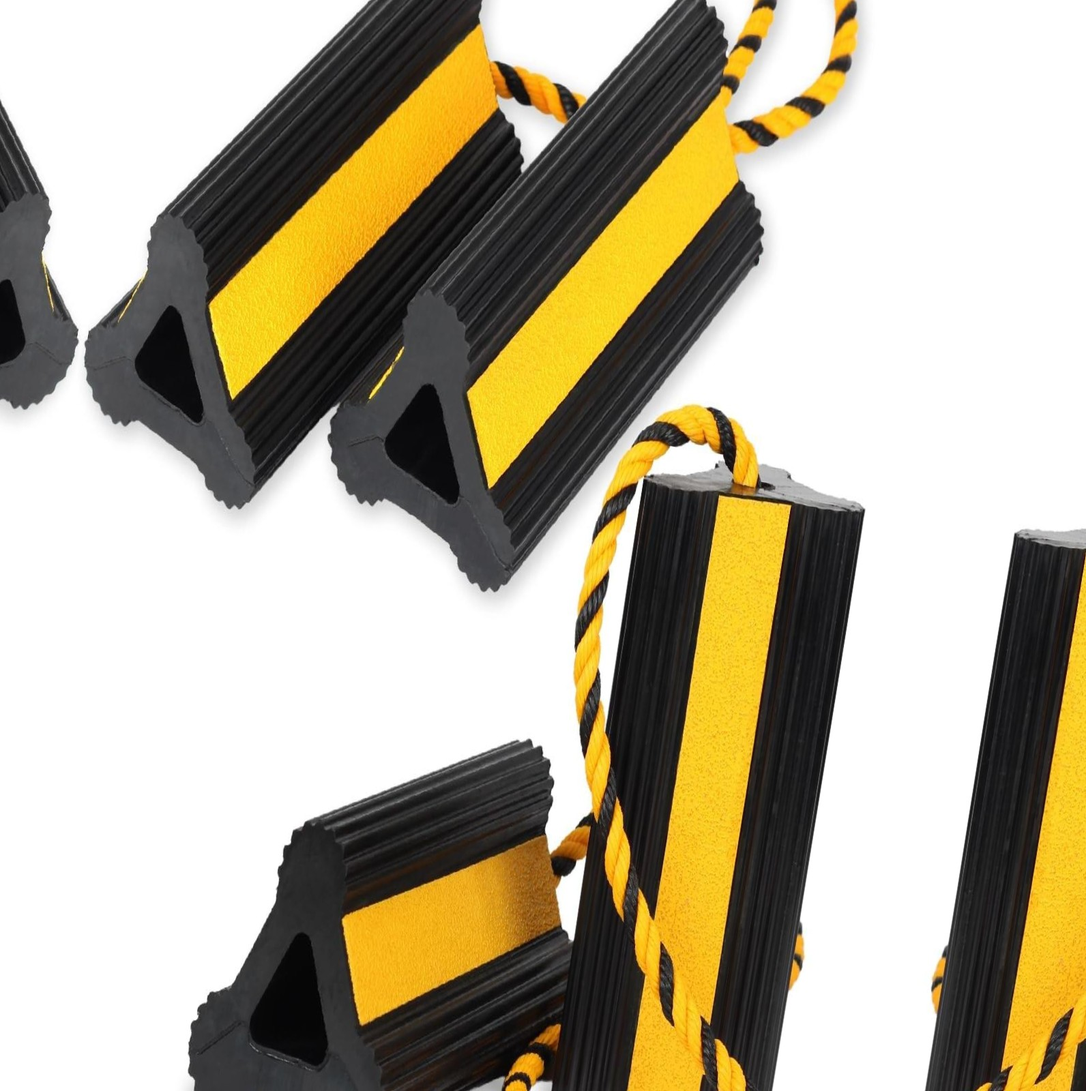chock: (306, 0, 802, 638), (59, 0, 560, 569), (540, 444, 883, 1091), (173, 687, 613, 1091), (901, 502, 1086, 1091)
